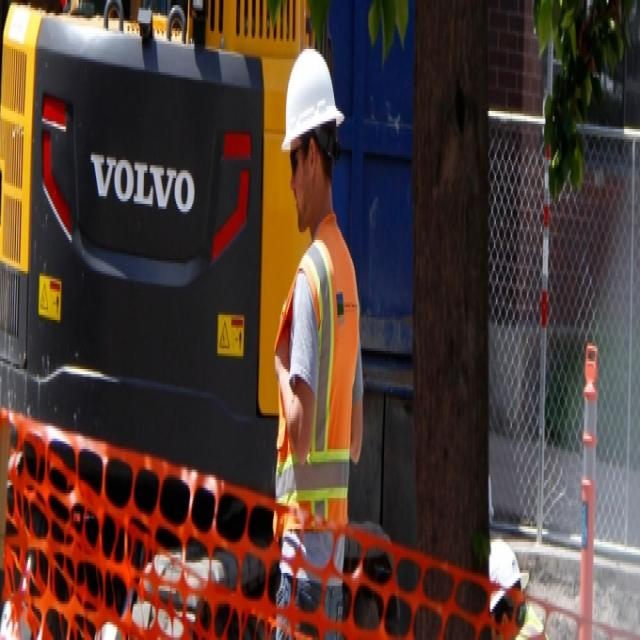Reflective-Jacket: (269, 217, 367, 529)
Safety-Helmet: (280, 39, 344, 155), (485, 524, 528, 624)
